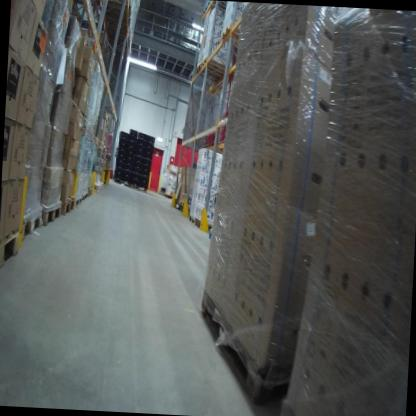pallet: (190, 284, 293, 406), (0, 226, 22, 270), (192, 60, 229, 82), (219, 21, 245, 51), (20, 207, 43, 240), (199, 54, 231, 77), (39, 199, 61, 226), (100, 0, 132, 18), (58, 194, 76, 219), (193, 216, 213, 234), (113, 175, 131, 189), (128, 182, 147, 194), (79, 188, 90, 205), (73, 192, 83, 210), (178, 199, 192, 209), (91, 135, 99, 147), (87, 186, 94, 199), (99, 139, 105, 150), (188, 213, 194, 222)
